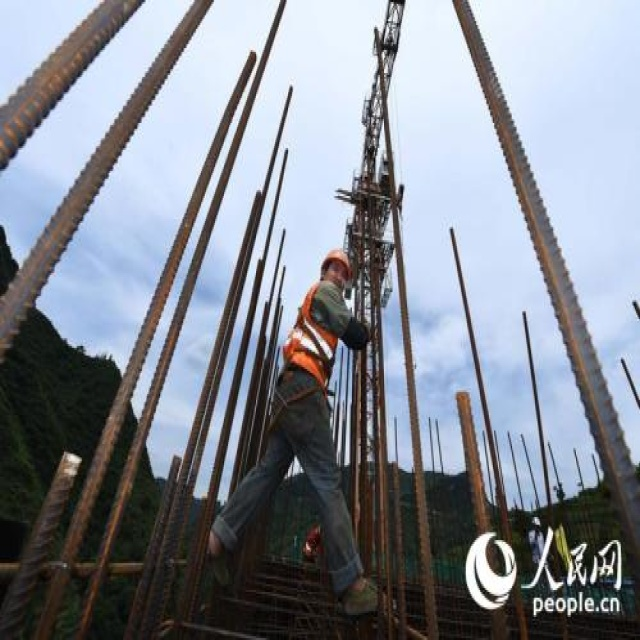Helmet: (317, 241, 358, 298)
Reflective vest: (281, 280, 347, 388)
